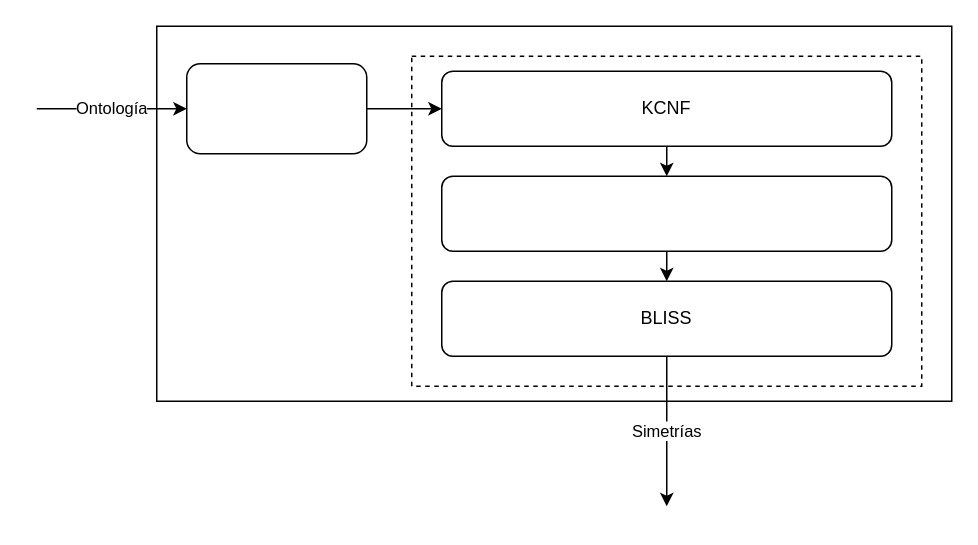
This 978x545 diagram has some shape labels left out. Each missing label, with the centre of its shape:
dl2ml: the point at 276,108
SY4NCL: the point at 666,213
